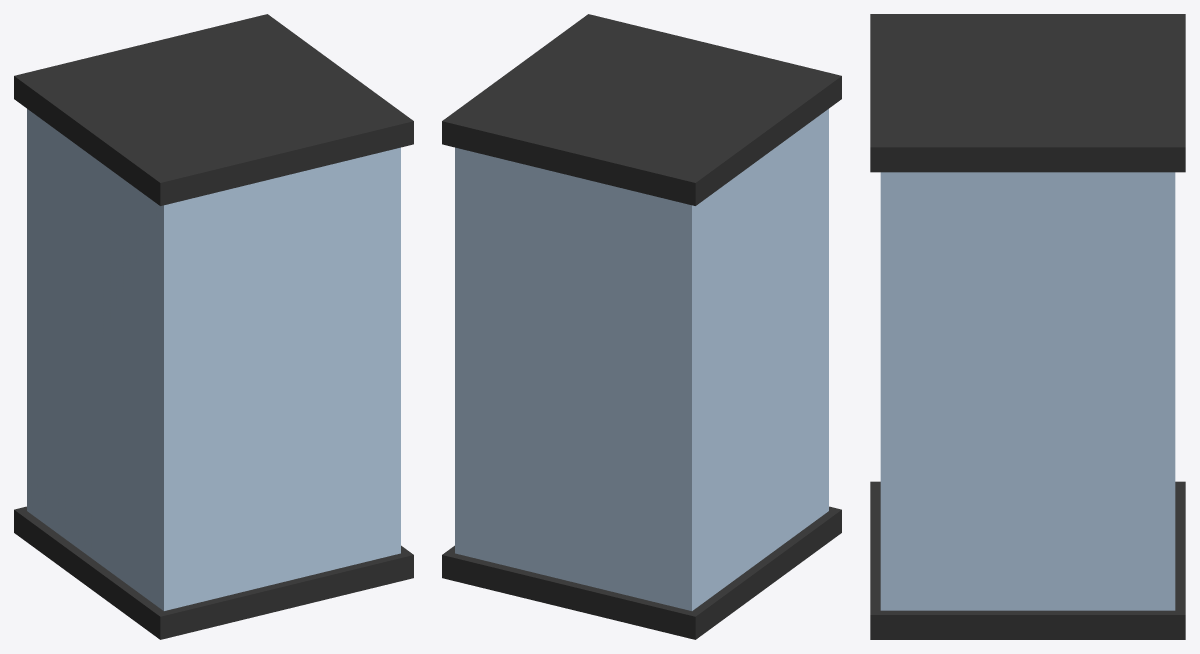
File: Shower.gltf
The picture shows the model from 3 angles, left to right: view 1: azimuth 30°, elevation 25°; view 2: azimuth 150°, elevation 25°; view 3: azimuth 270°, elevation 25°; orthographic projection. The views are drawn at different scales.
Visible parts, largest first — view 1: Cube; view 2: Cube; view 3: Cube.
Part boxes in pixels (x1=…): Cube: x1=14, y1=14, x2=413, y2=639; Cube: x1=442, y1=14, x2=841, y2=639; Cube: x1=870, y1=14, x2=1185, y2=639.
Size of the model in its own units: 16.18 by 27.86 by 16.18.
